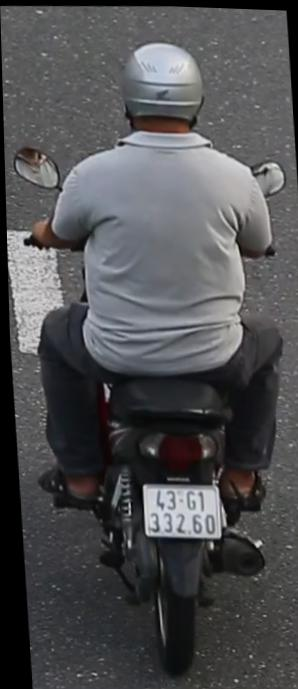LP: (133, 476, 222, 545)
helmet: (115, 32, 211, 153)
